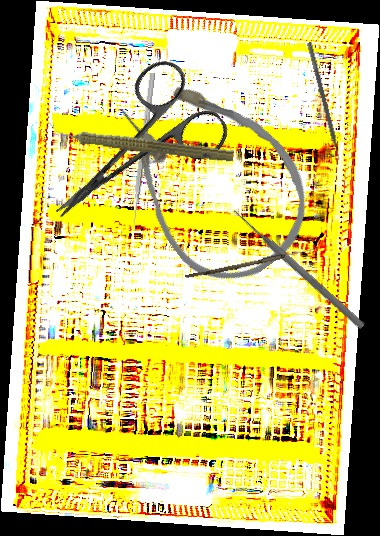Cannula: (90, 47, 335, 305)
Handpiece: (46, 120, 235, 166)
Iris Scissors: (21, 51, 236, 254)
Pusher: (230, 206, 367, 331), (129, 72, 156, 234)
Spatula Surgical: (301, 41, 345, 167)
Surgical Spoon: (185, 244, 319, 282)
